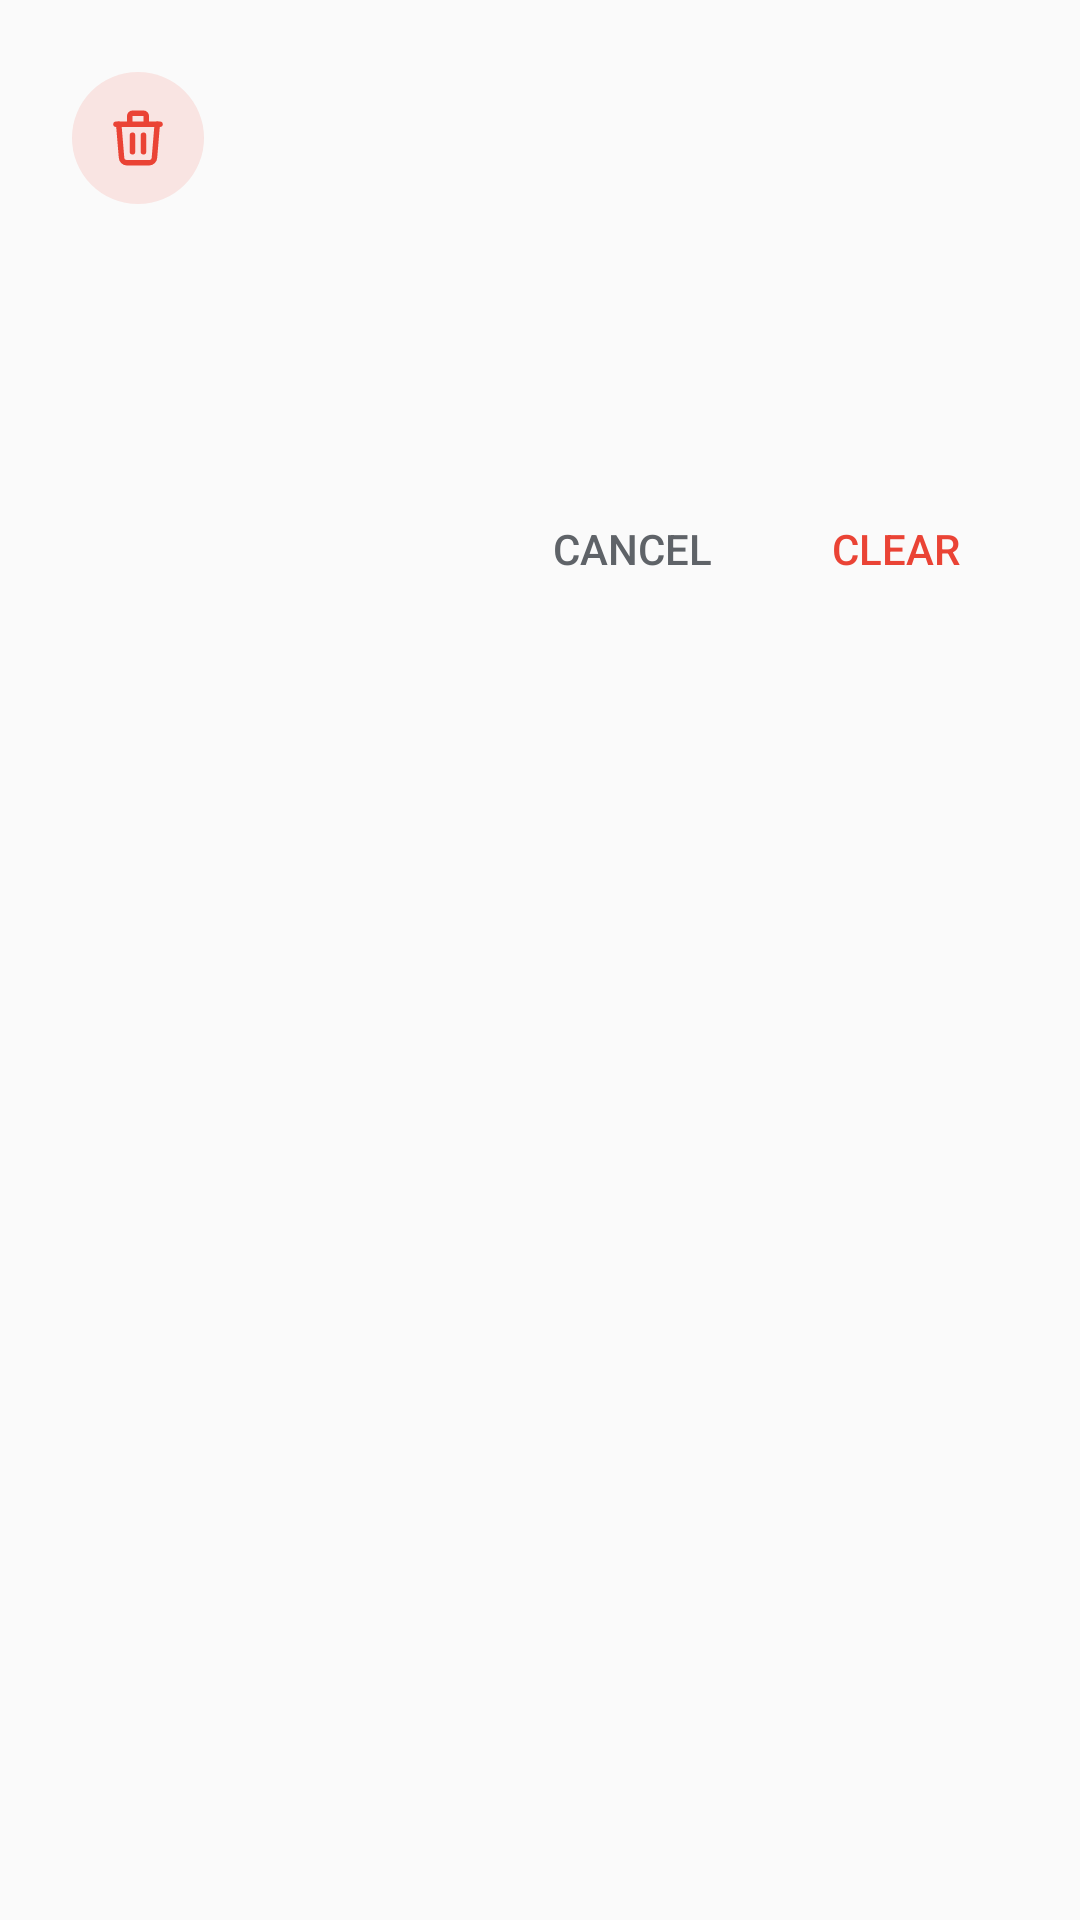

Named icons in this screenshot (1080×1920) and their centers, point (x, y):
trash: point (138, 138)
